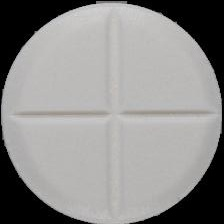0185-4400: (0, 0, 224, 224)
